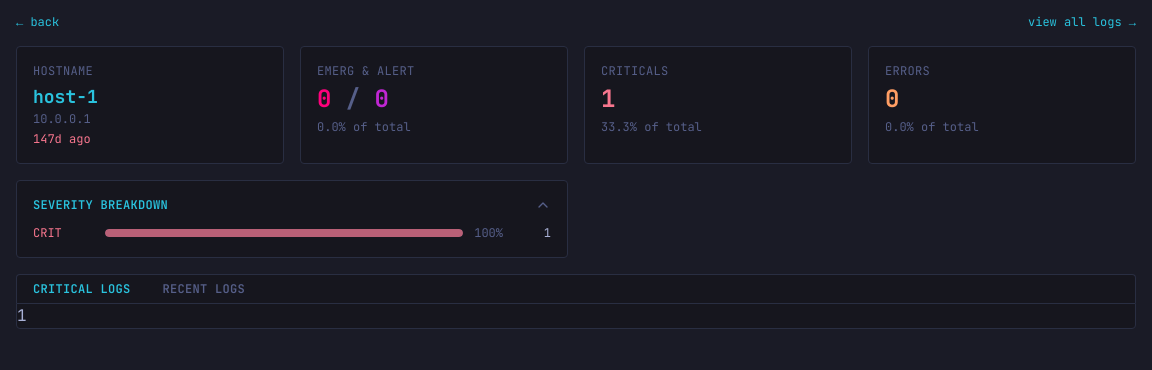
Scenario: DeviceLogView (smoke) › switches to the recent tab and renders the live event stream
Click the button "Recent Logs".
click(204, 289)  # box [146,275,261,303]
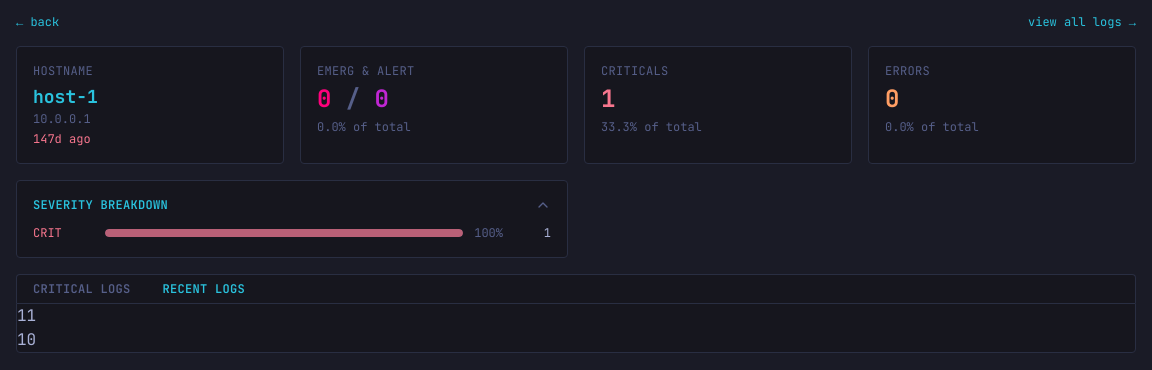
Check: the elements with class "row-stub" read "11", "10", in this order, box [17,305,36,326]; [17,329,36,350]
